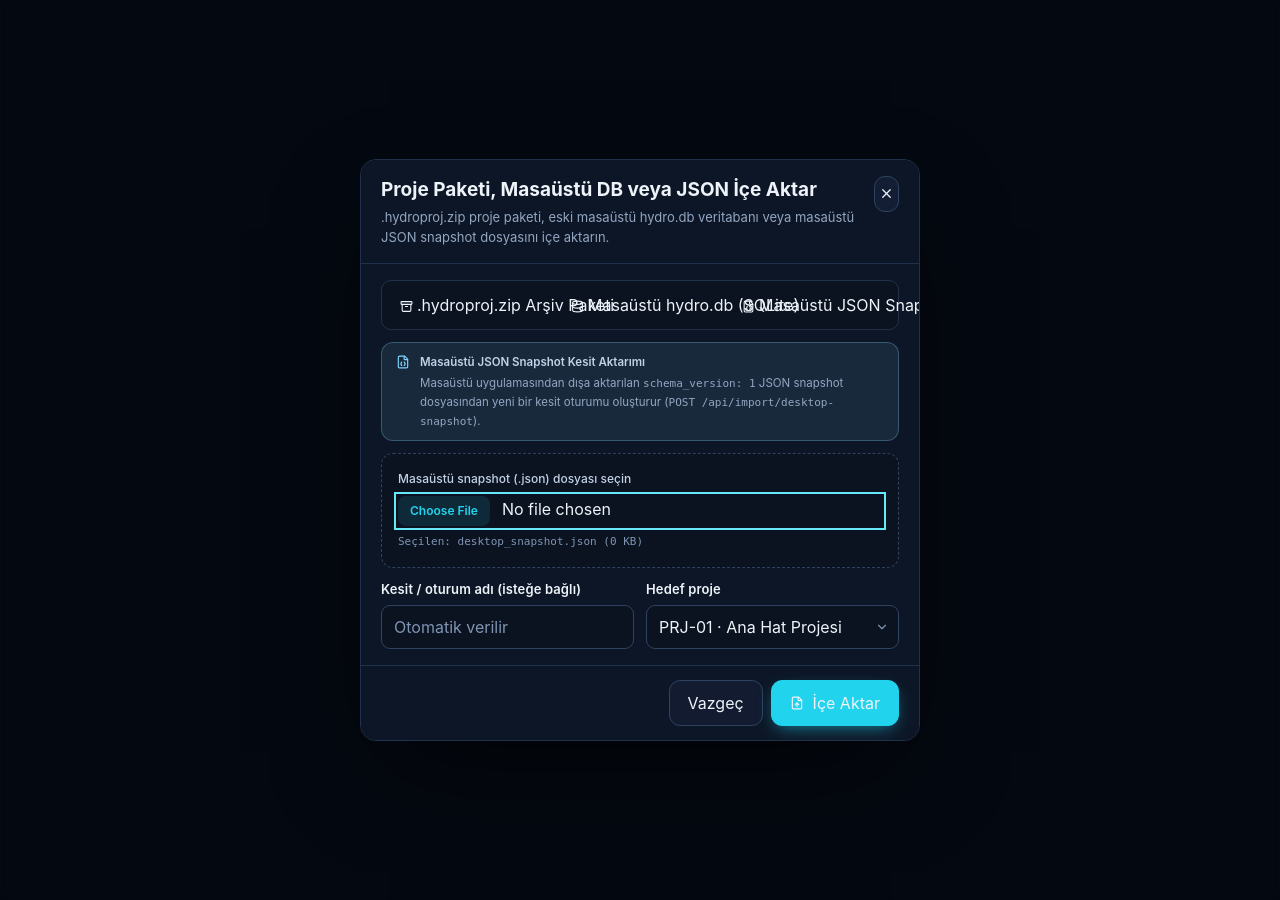
RevisionConflictModal & Desktop JSON Snapshot Import › imports desktop JSON snapshot via ProjectImportModal with project_id and mapping notes
Earlier steps of the test are not shown.
Later steps or results of the test are not shown.
Click the button "İçe Aktar": point(835, 703) left=771, top=680, right=899, bottom=726
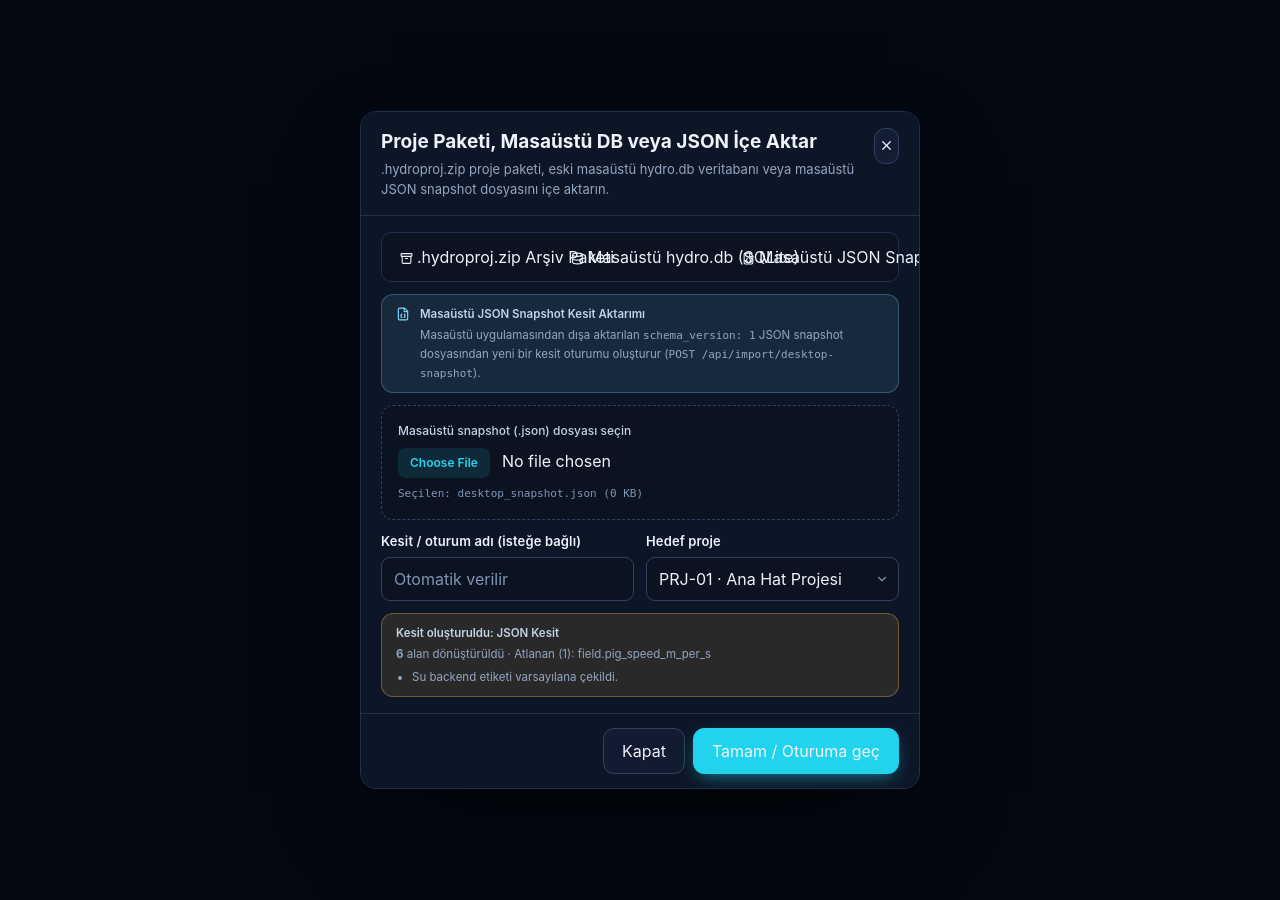
Now the text "Kesit oluşturuldu: JSON Kesit" is shown, box left=396, top=626, right=559, bottom=640
Now the text "6 alan dönüştürüldü · Atlanan (1): field.pig_speed_m_per_s" is shown, box left=396, top=645, right=711, bottom=664
